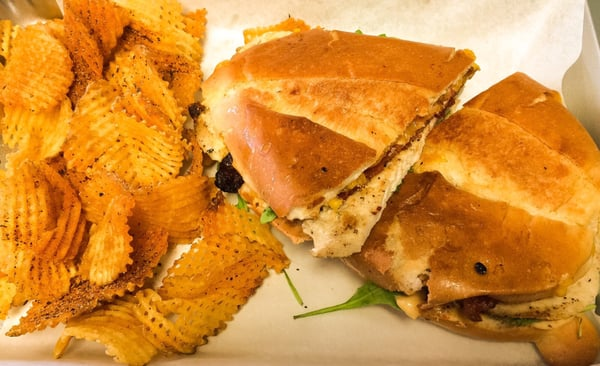soup: (335, 73, 600, 360), (195, 25, 482, 259)
